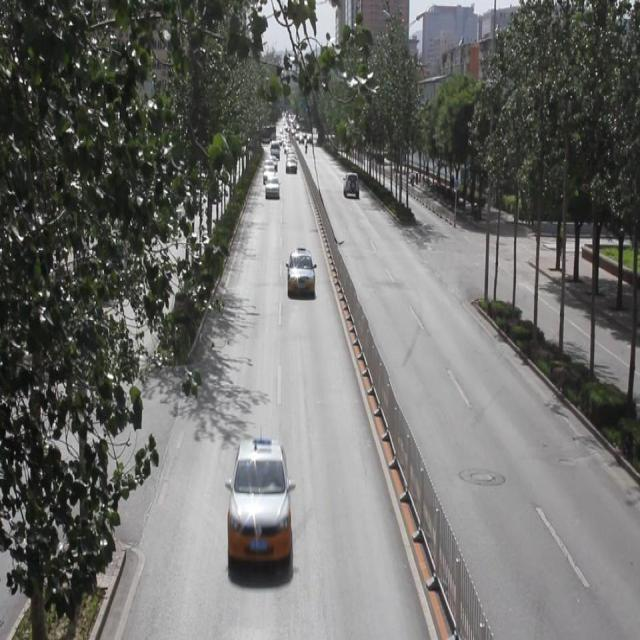car: (226, 436, 290, 563), (287, 249, 314, 297), (342, 172, 358, 200)
